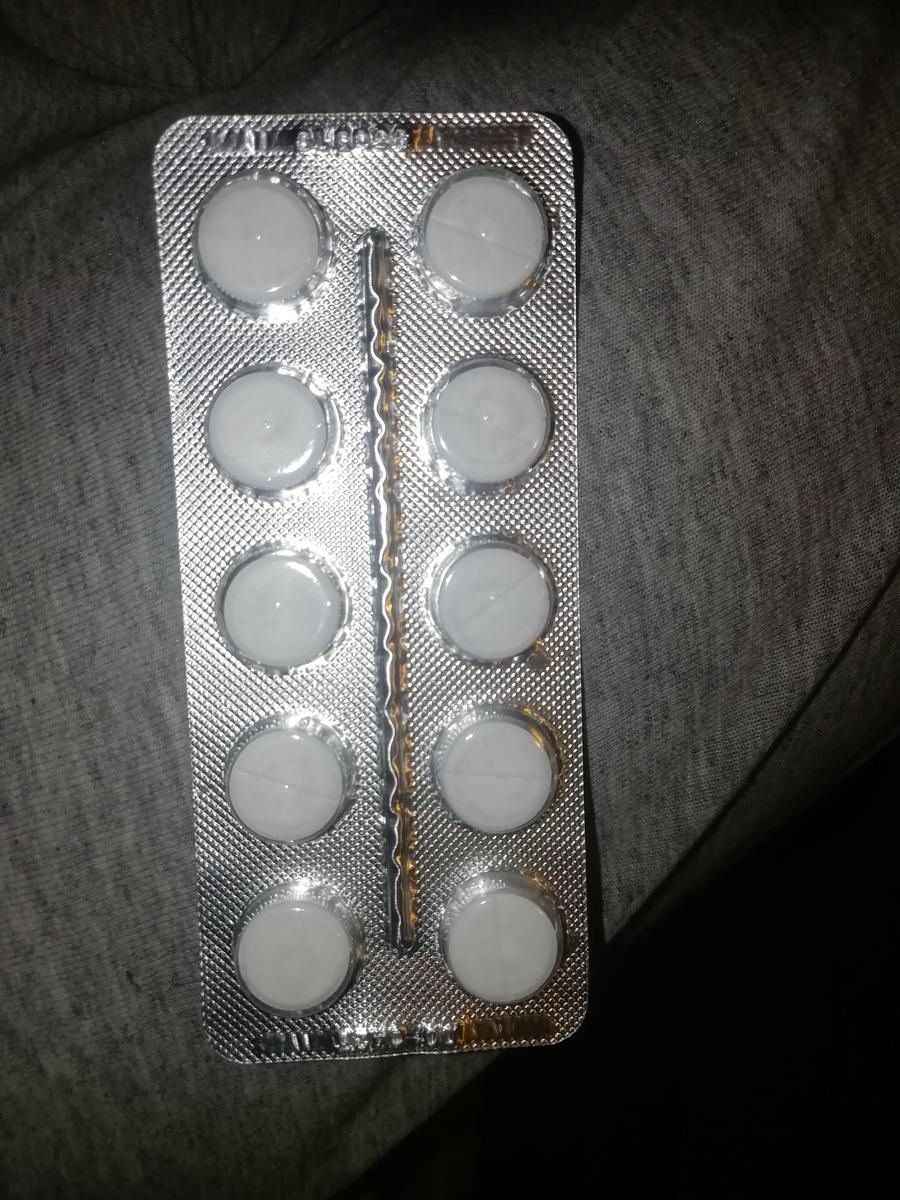tablet: (196, 162, 333, 317), (414, 158, 551, 313), (419, 344, 556, 499), (204, 349, 341, 504), (213, 528, 350, 683), (418, 524, 555, 679), (432, 684, 569, 839), (219, 702, 356, 857), (226, 870, 363, 1025), (435, 868, 572, 1023)
